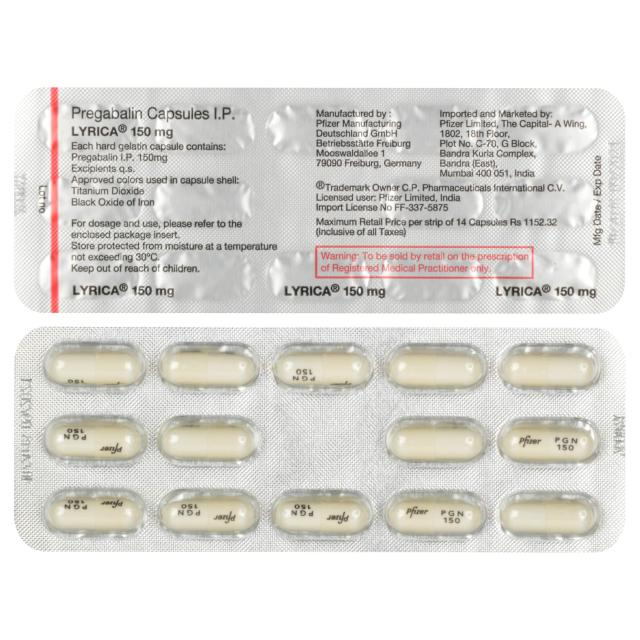Medicine-name: (64, 101, 238, 142)
